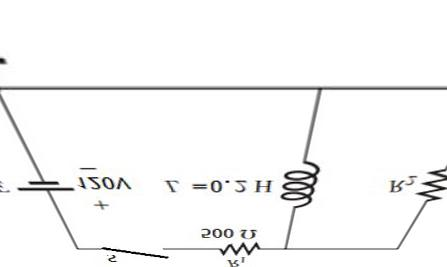inductor: (274, 148, 327, 220)
